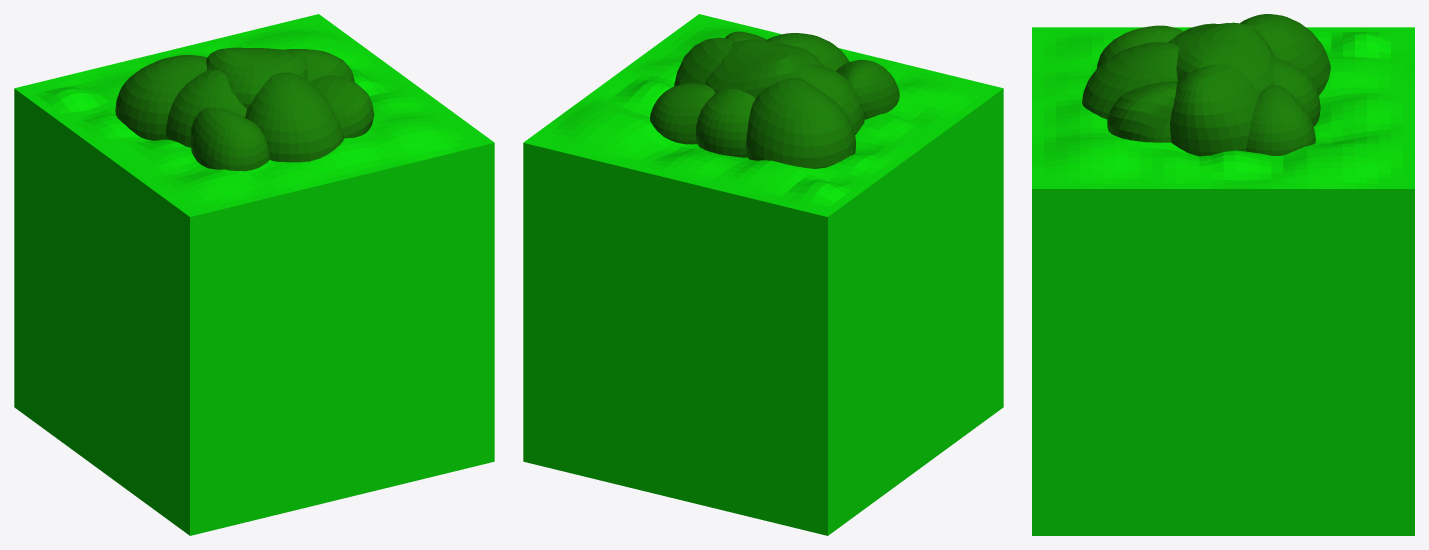
The model's file is Grassblock2.fbx.
3 views of the same model, side by side, from view 1: azimuth 30°, elevation 25°; view 2: azimuth 150°, elevation 25°; view 3: azimuth 270°, elevation 25° (orthographic). The views are drawn at different scales.
Visible parts, largest first — view 1: Cube, Sphere, Sphere.002, Sphere.001, Sphere.008, Sphere.004, Sphere.006, Sphere.005; view 2: Cube, Sphere.002, Sphere.008, Sphere.003, Sphere.007, Sphere.001, Sphere.004, Sphere.005, Sphere; view 3: Cube, Sphere.005, Sphere.008, Sphere, Sphere.007, Sphere.006, Sphere.002, Sphere.003, Sphere.001.
Boxes of the visible parts, left/top/right/bottom form: Cube: left=14, top=14, right=494, bottom=535; Sphere: left=245, top=72, right=343, bottom=162; Sphere.002: left=115, top=55, right=207, bottom=140; Sphere.001: left=190, top=107, right=269, bottom=171; Sphere.008: left=206, top=47, right=307, bottom=108; Sphere.004: left=165, top=69, right=246, bottom=147; Sphere.006: left=309, top=75, right=374, bottom=138; Sphere.005: left=284, top=49, right=354, bottom=82; Cube: left=523, top=14, right=1003, bottom=535; Sphere.002: left=746, top=78, right=855, bottom=168; Sphere.008: left=706, top=39, right=822, bottom=98; Sphere.003: left=695, top=88, right=755, bottom=157; Sphere.007: left=650, top=83, right=715, bottom=144; Sphere.001: left=836, top=60, right=899, bottom=119; Sphere.004: left=799, top=63, right=864, bottom=134; Sphere.005: left=674, top=37, right=735, bottom=86; Sphere: left=765, top=33, right=849, bottom=71; Cube: left=1032, top=27, right=1414, bottom=535; Sphere.005: left=1170, top=63, right=1259, bottom=156; Sphere.008: left=1168, top=22, right=1275, bottom=93; Sphere: left=1082, top=42, right=1178, bottom=119; Sphere.007: left=1246, top=85, right=1315, bottom=155; Sphere.006: left=1107, top=81, right=1177, bottom=142; Sphere.002: left=1240, top=14, right=1330, bottom=95; Sphere.003: left=1273, top=58, right=1320, bottom=126; Sphere.001: left=1096, top=25, right=1183, bottom=68.
Size of the model in its own units: 200 by 241 by 200.
